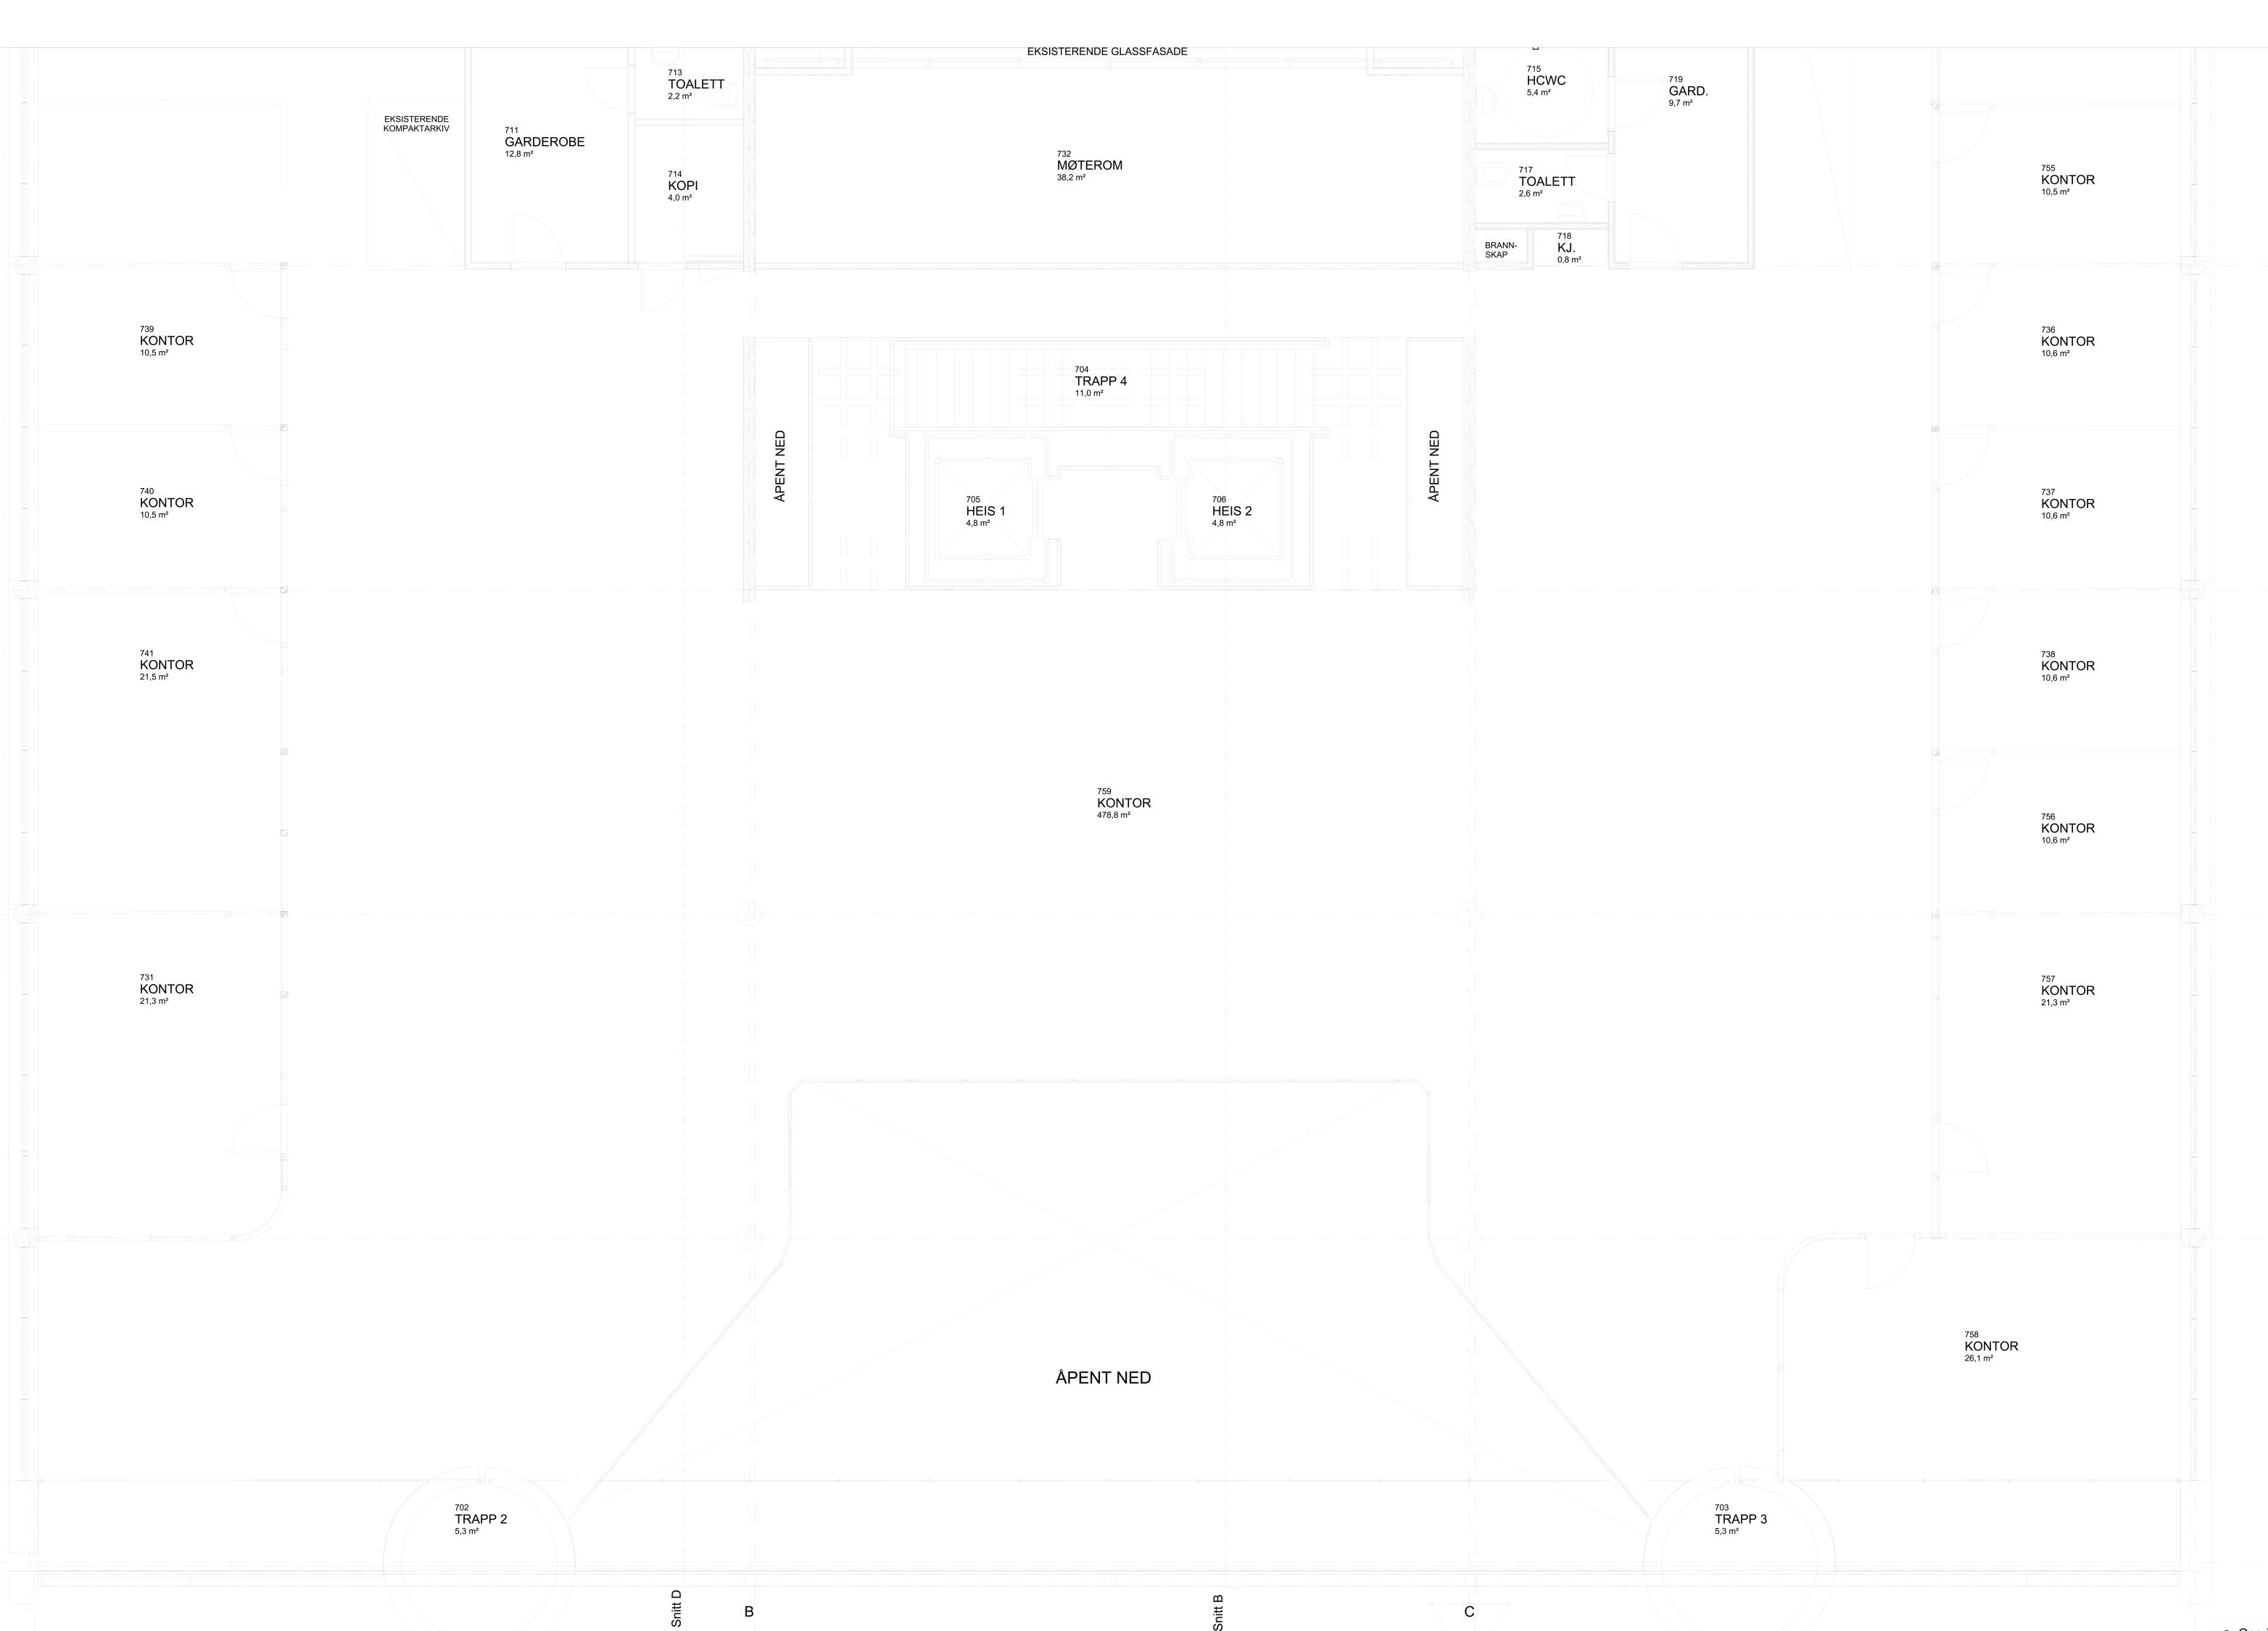room: (750, 48, 1470, 266), (1782, 1235, 2187, 1485), (1933, 912, 2189, 1235), (33, 914, 285, 1240), (33, 592, 283, 914), (1935, 48, 2189, 266), (33, 262, 285, 428), (1933, 264, 2187, 428), (1933, 749, 2187, 911), (1935, 428, 2187, 590), (33, 428, 283, 590), (1935, 590, 2189, 749), (468, 48, 630, 266), (1611, 46, 1754, 266), (1173, 435, 1292, 583), (926, 435, 1046, 579), (632, 120, 747, 264), (750, 336, 812, 588), (1410, 338, 1469, 588), (1470, 48, 1611, 146), (1469, 143, 1611, 227), (632, 48, 748, 122)
